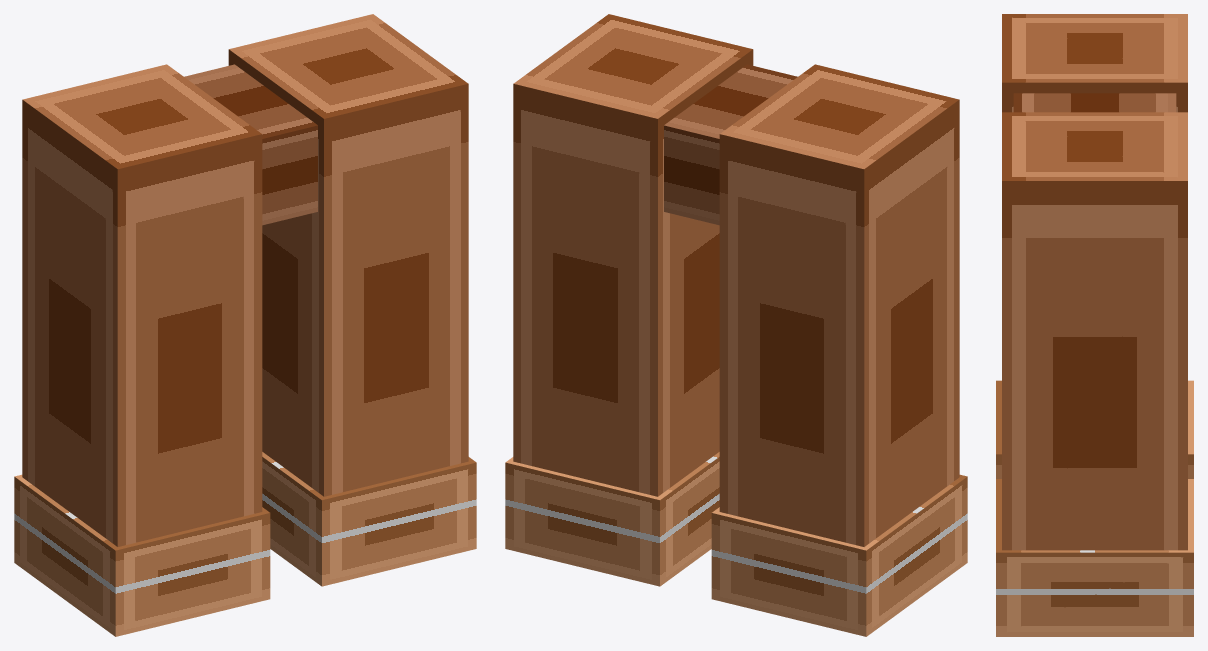
The picture shows the model from 3 angles, left to right: view 1: azimuth 30°, elevation 25°; view 2: azimuth 150°, elevation 25°; view 3: azimuth 270°, elevation 25°; orthographic projection. The views are drawn at different scales.
Visible parts, largest first — view 1: copper_legs; view 2: copper_legs; view 3: copper_legs.
Boxes of the visible parts, x1,y1,x2,y2 form: copper_legs: (14,14,476,636); copper_legs: (505,14,967,636); copper_legs: (996,14,1193,636).
Size of the model in its own units: 0.35 by 0.43 by 0.17.
3 materials, 3 textured.
